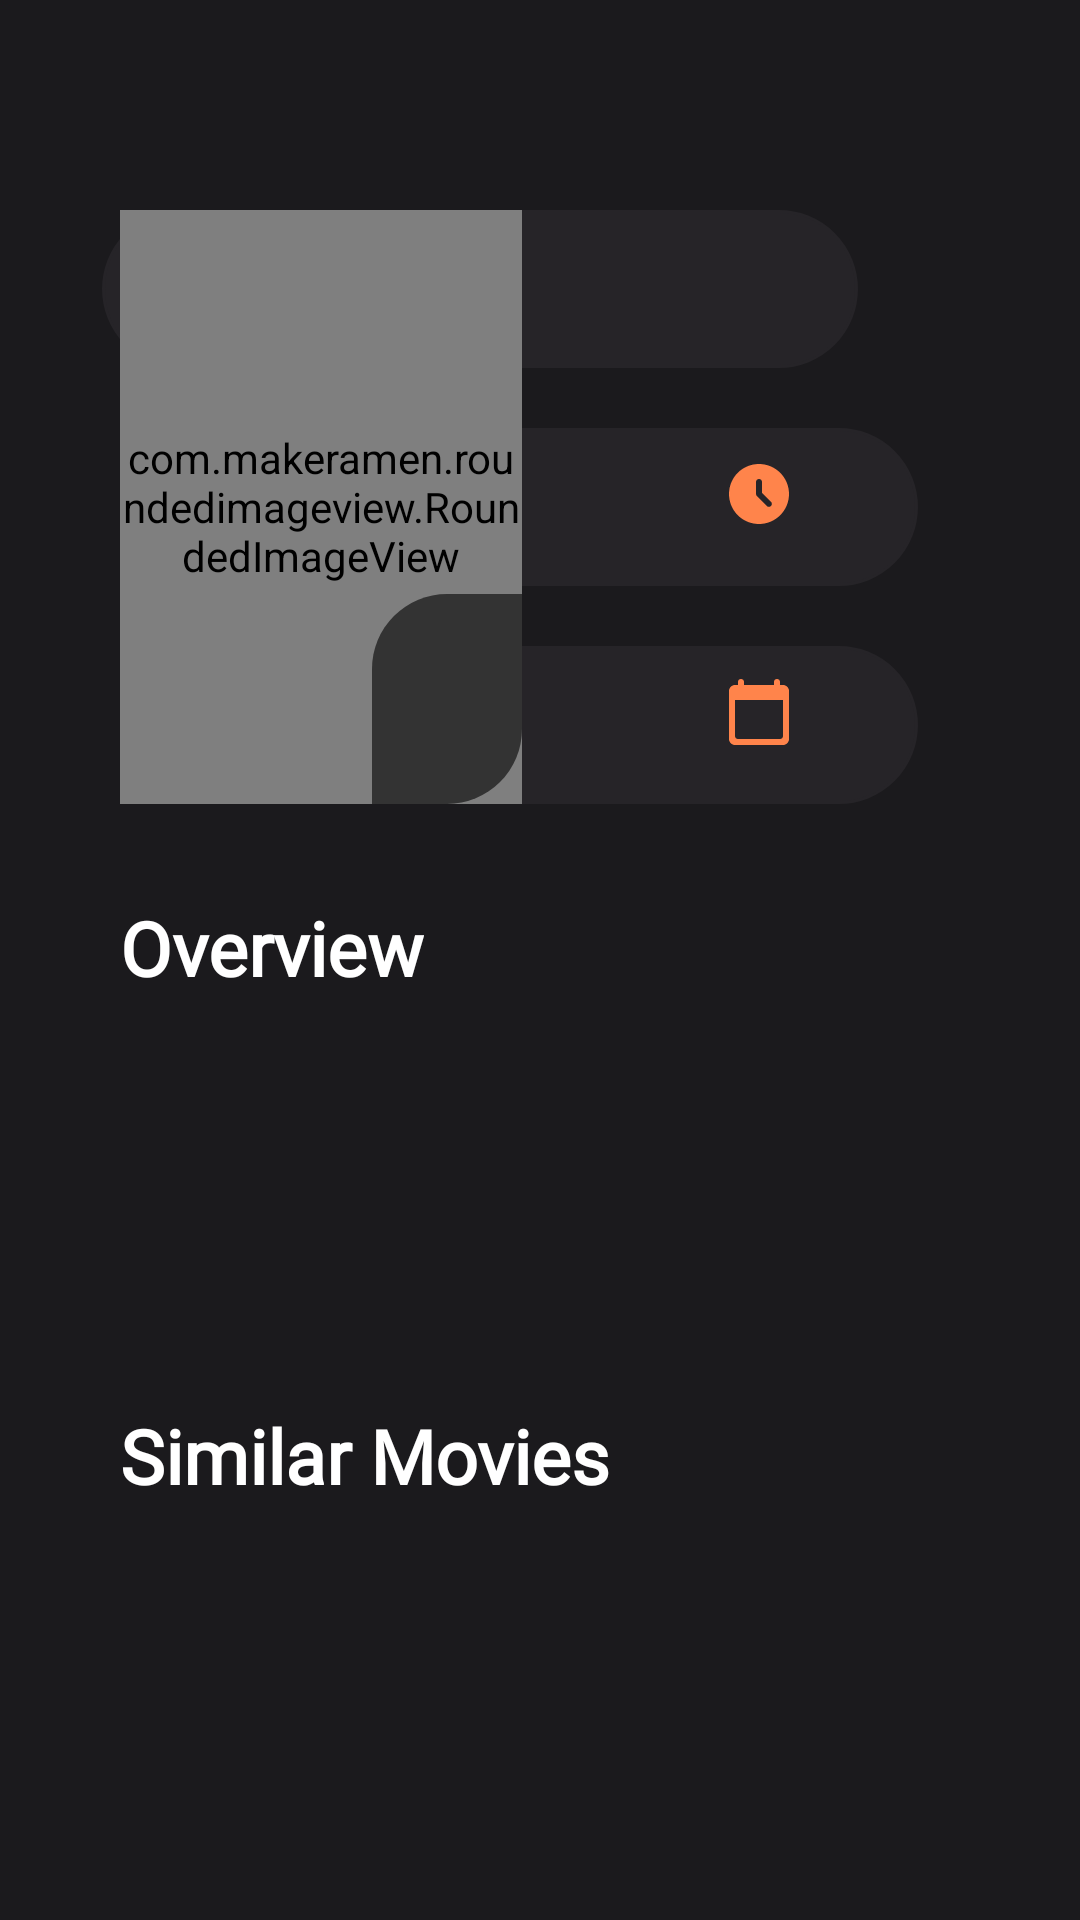

Named icons in this screenshot (1080 × 1920) and their centers, [x,y]:
duration: [759,494]
year: [759,712]
